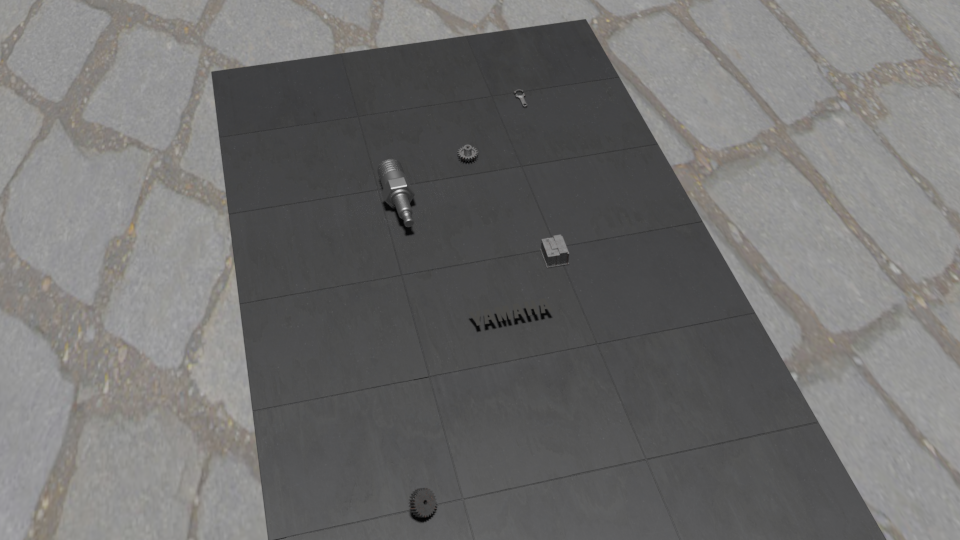yamaha_letters: (468, 297, 553, 326)
